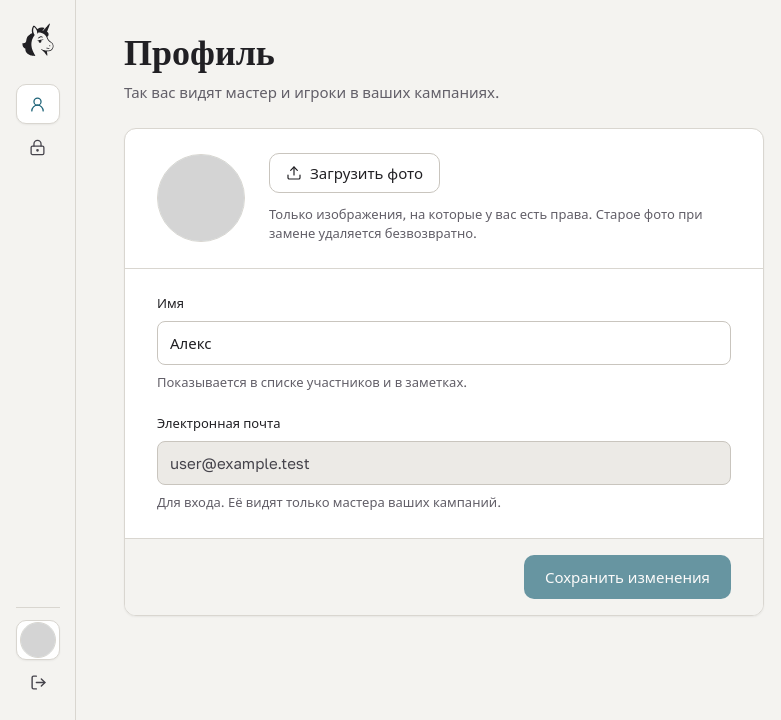
Test case: AccountSettingsPage › switches between the settings and the password from the side menu
Expected: the field labelled "Текущий пароль" is not shown
Click the 2nd link named "Вход и пароль": (38, 147) top-left (16, 127), bottom-right (60, 167)
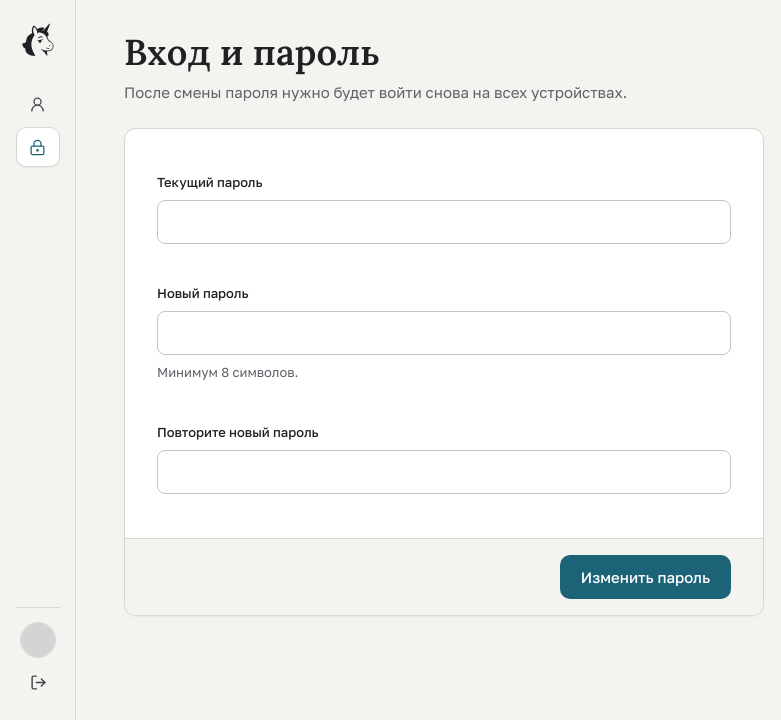
Expected: the heading "Вход и пароль" is shown, top-left (124, 29), bottom-right (380, 75)
Expected: the password field labelled "Текущий пароль" is shown, top-left (157, 200), bottom-right (731, 244)
